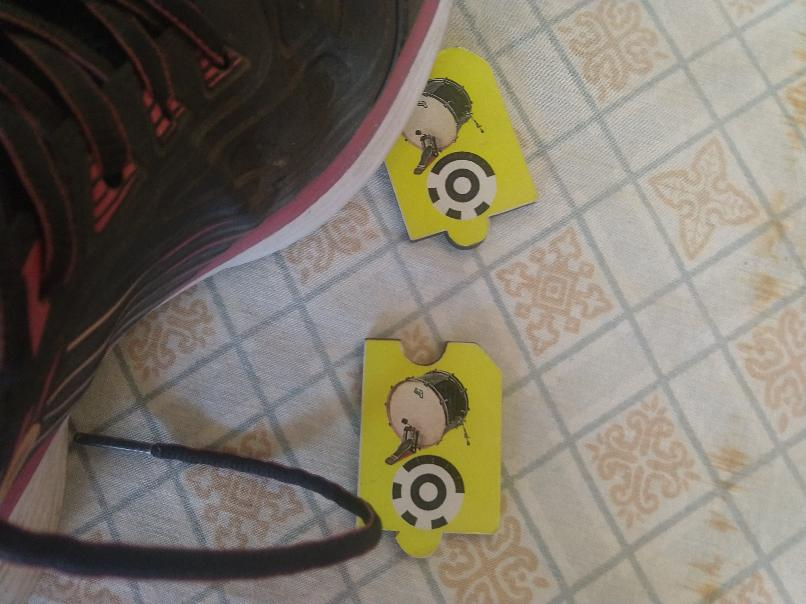bumbo: (365, 44, 540, 253), (356, 336, 507, 558)
